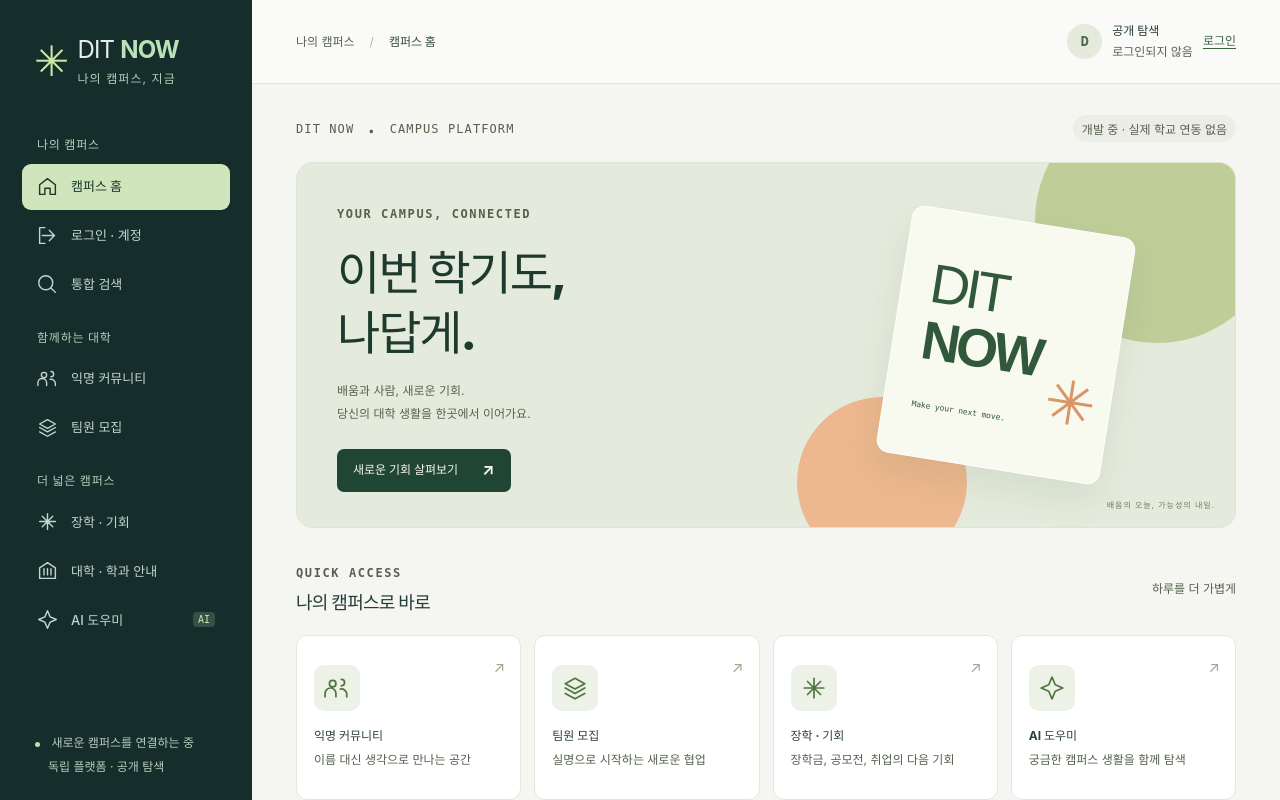
integrated campus shell › changes route and clearly marks unfinished functionality
Click the link "익명 커뮤니티": (92, 379) [37, 368, 146, 389]
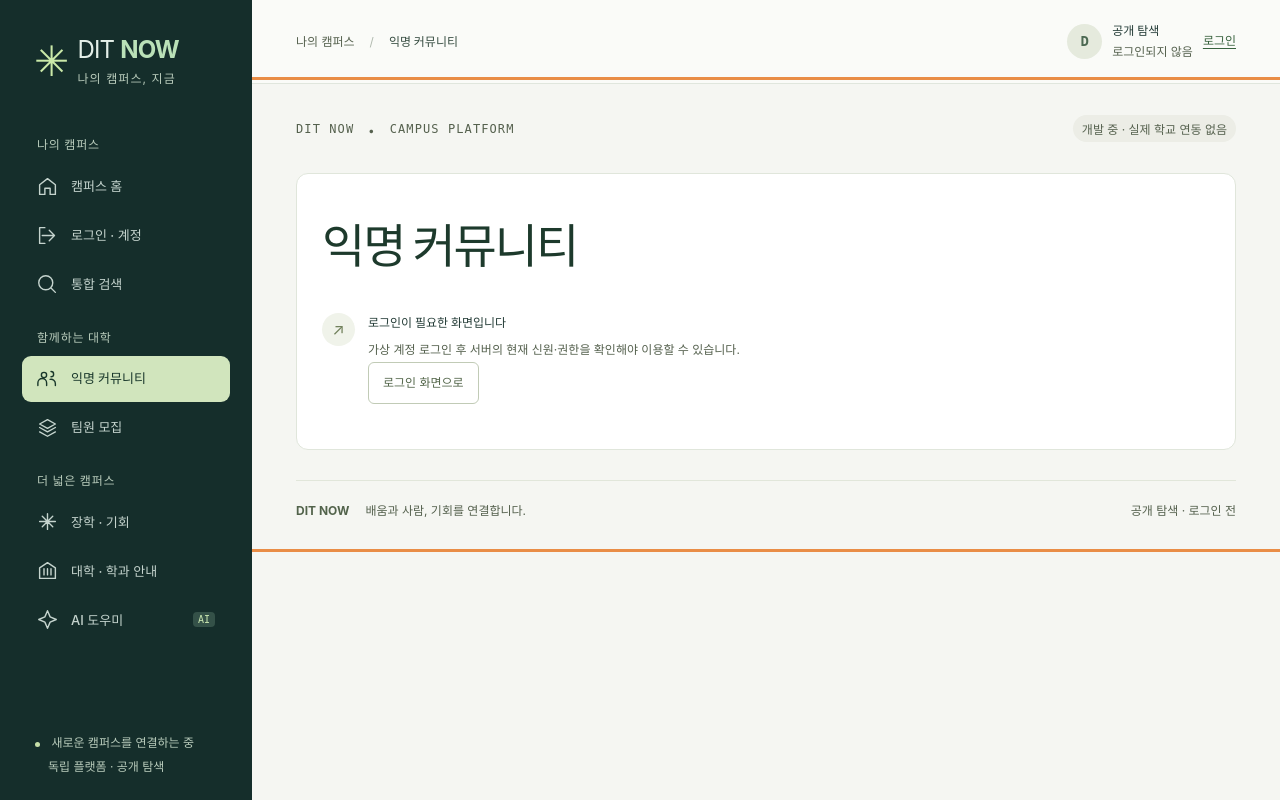
Result: the heading "익명 커뮤니티" is shown at [322, 217, 577, 274]
Result: the text "로그인이 필요한 화면입니다" is shown at [368, 315, 506, 330]
